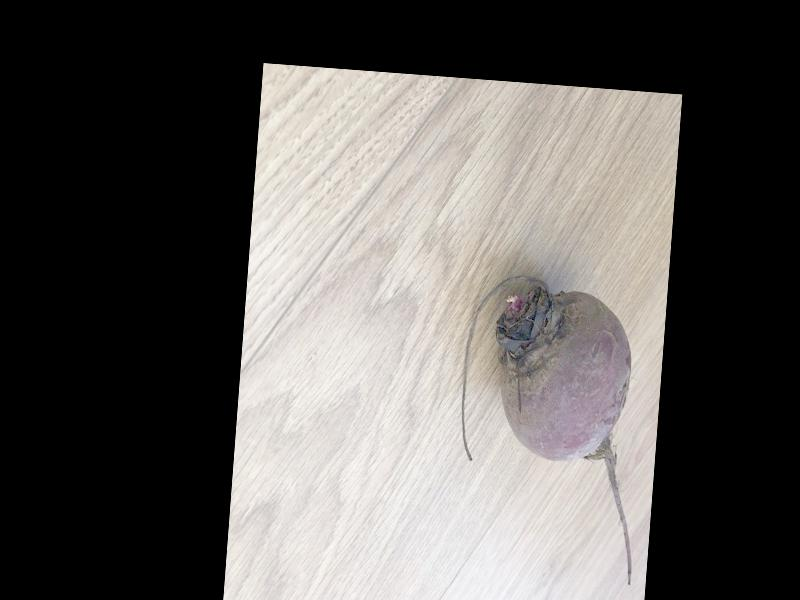Beet: (448, 274, 653, 585)
